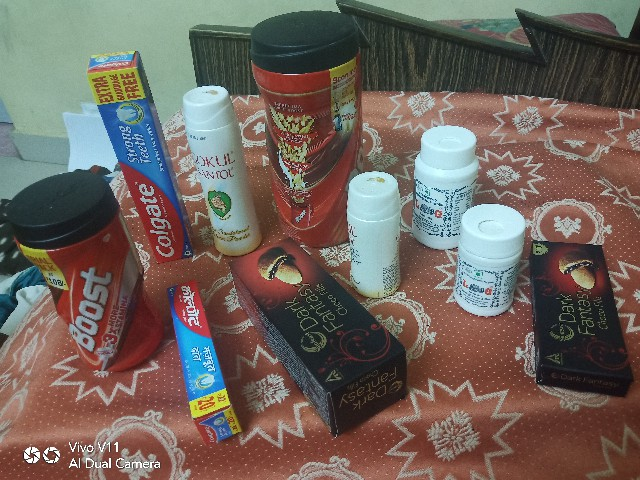boost big: (242, 10, 357, 243)
boost small: (2, 173, 150, 376)
colgatetoothpaste big: (81, 39, 185, 263)
colgatetoothpaste small: (159, 270, 239, 441)
darkfantasy big: (226, 231, 404, 443)
darkfantasy small: (525, 231, 636, 405)
gokulsantol big: (182, 76, 263, 256)
gokulsantol small: (348, 167, 409, 297)
lgasafoetidapowder large: (407, 115, 473, 247)
lgasafoetidapowder small: (453, 204, 528, 322)
